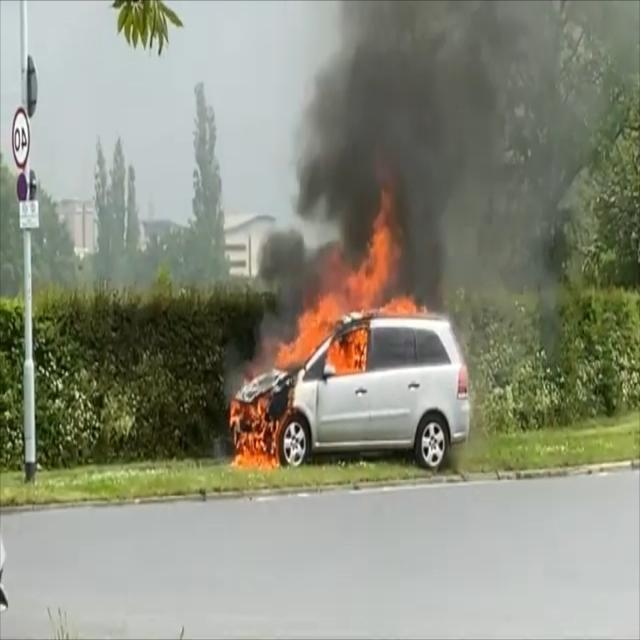fire: (228, 164, 431, 480)
